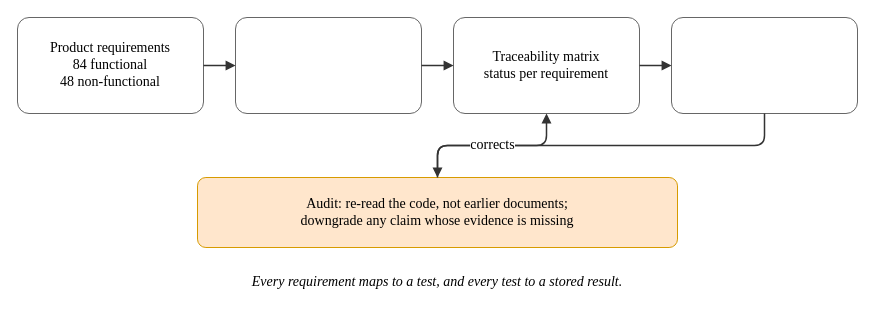
Some shapes in this 875 by 315 pixel diagram are drawn without their labels. The centre of each missing label's shape, as x and y in pixels:
Evidence tests, recorded runs, experiment outputs: point 764,65
Tests unit, AT, ATC, ST, TC: point 328,65
